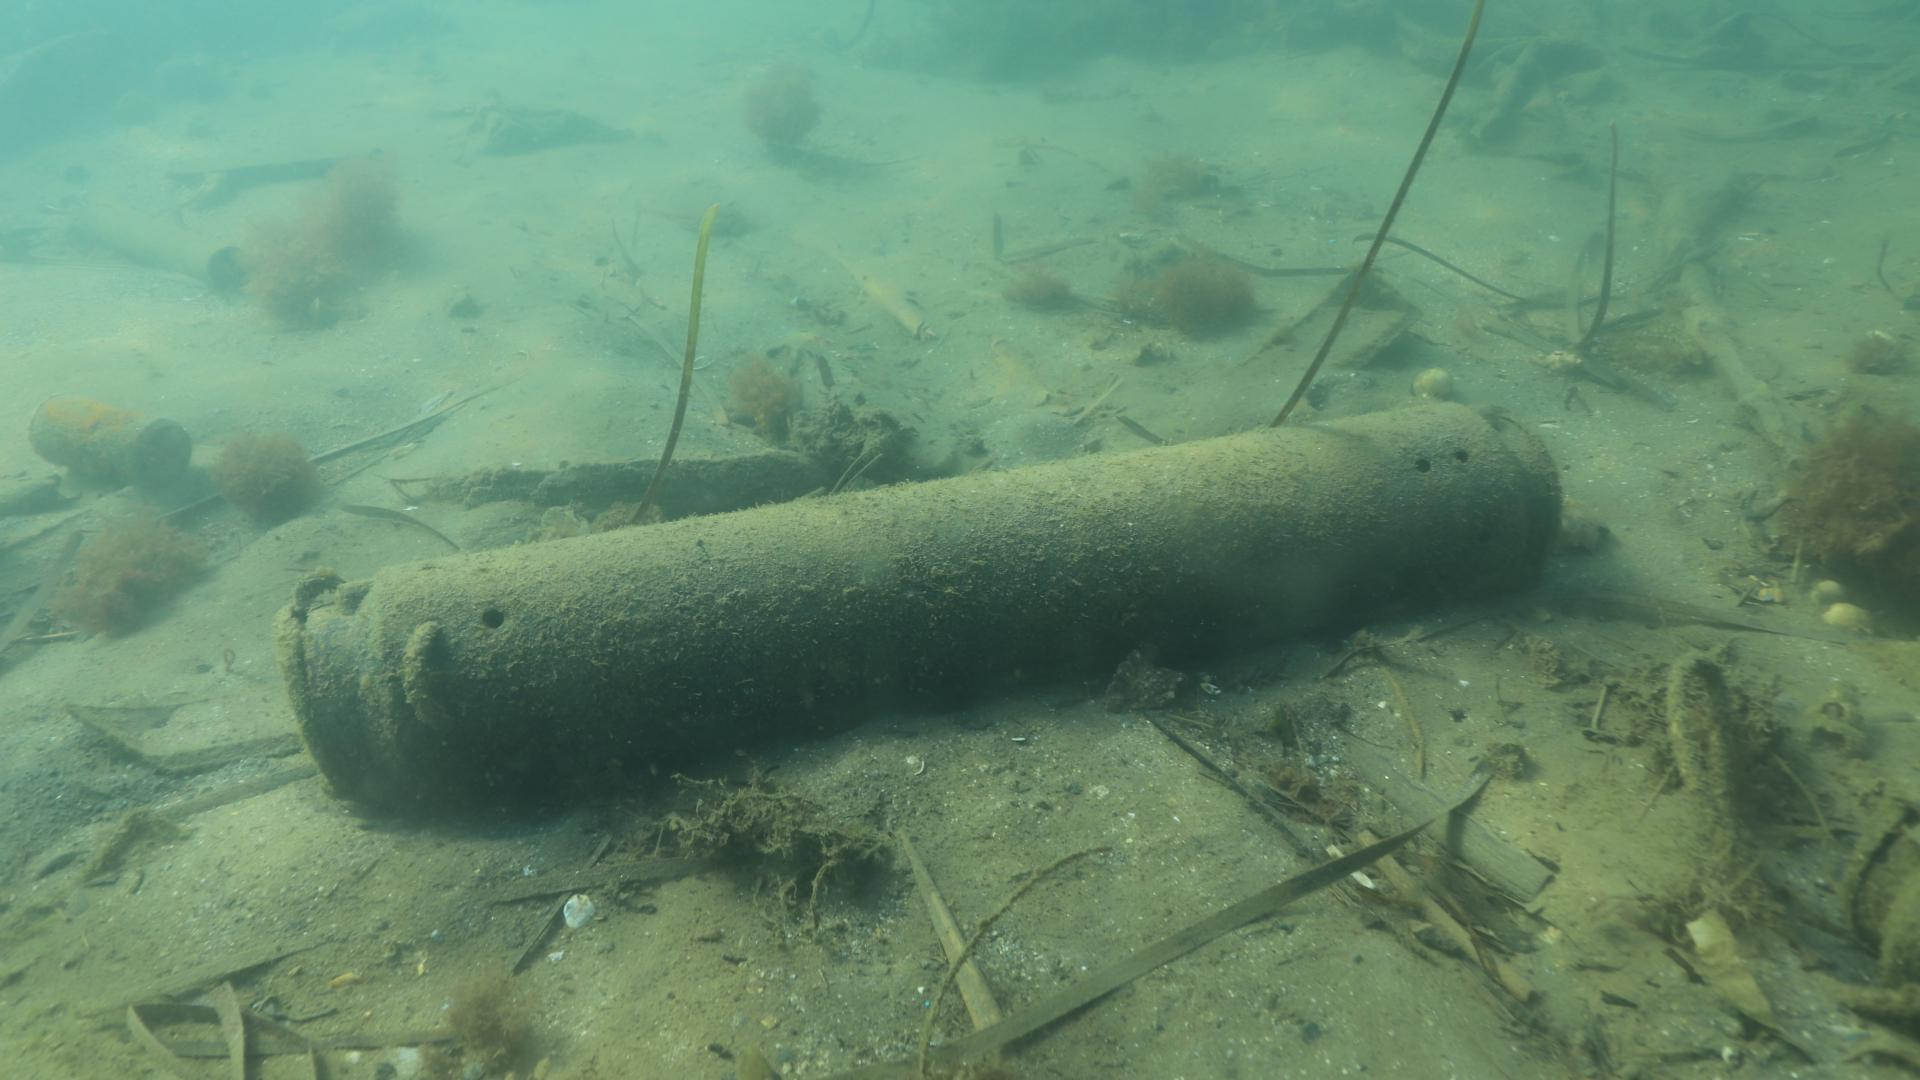eel fish trap: (281, 400, 1563, 812)
